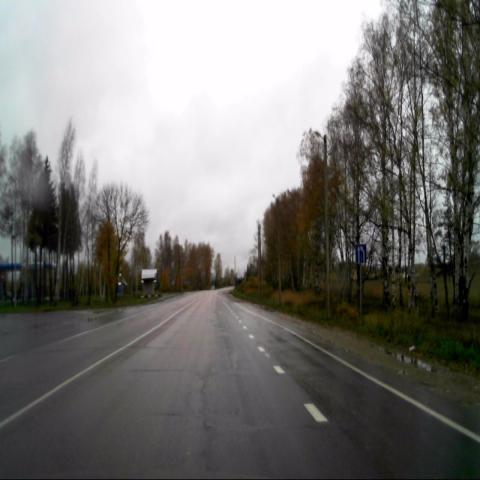5_15_5: (356, 244, 366, 264)
